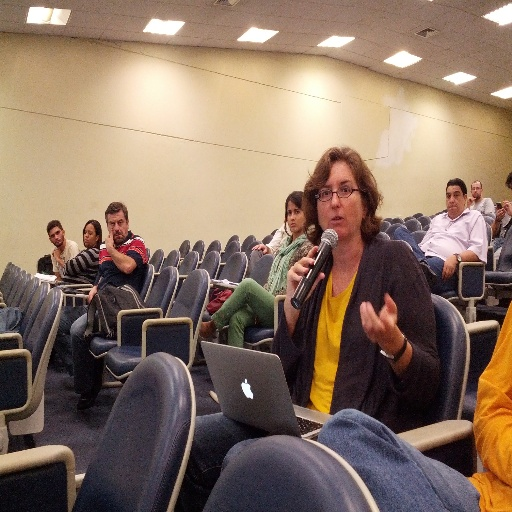hand: (367, 297, 416, 366), (287, 243, 326, 309), (440, 252, 457, 282), (102, 228, 114, 252), (86, 284, 98, 304), (251, 242, 270, 254), (500, 199, 511, 215), (50, 245, 60, 261), (496, 207, 506, 222), (465, 196, 477, 205)
